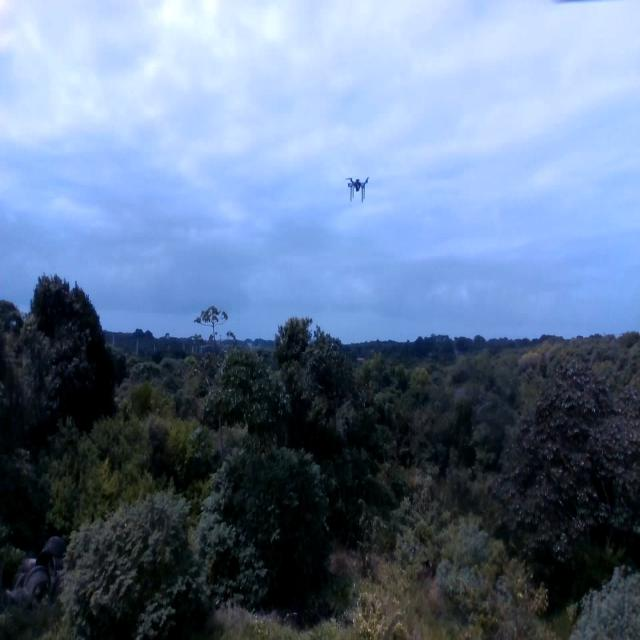-uav-: (342, 162, 373, 222)
